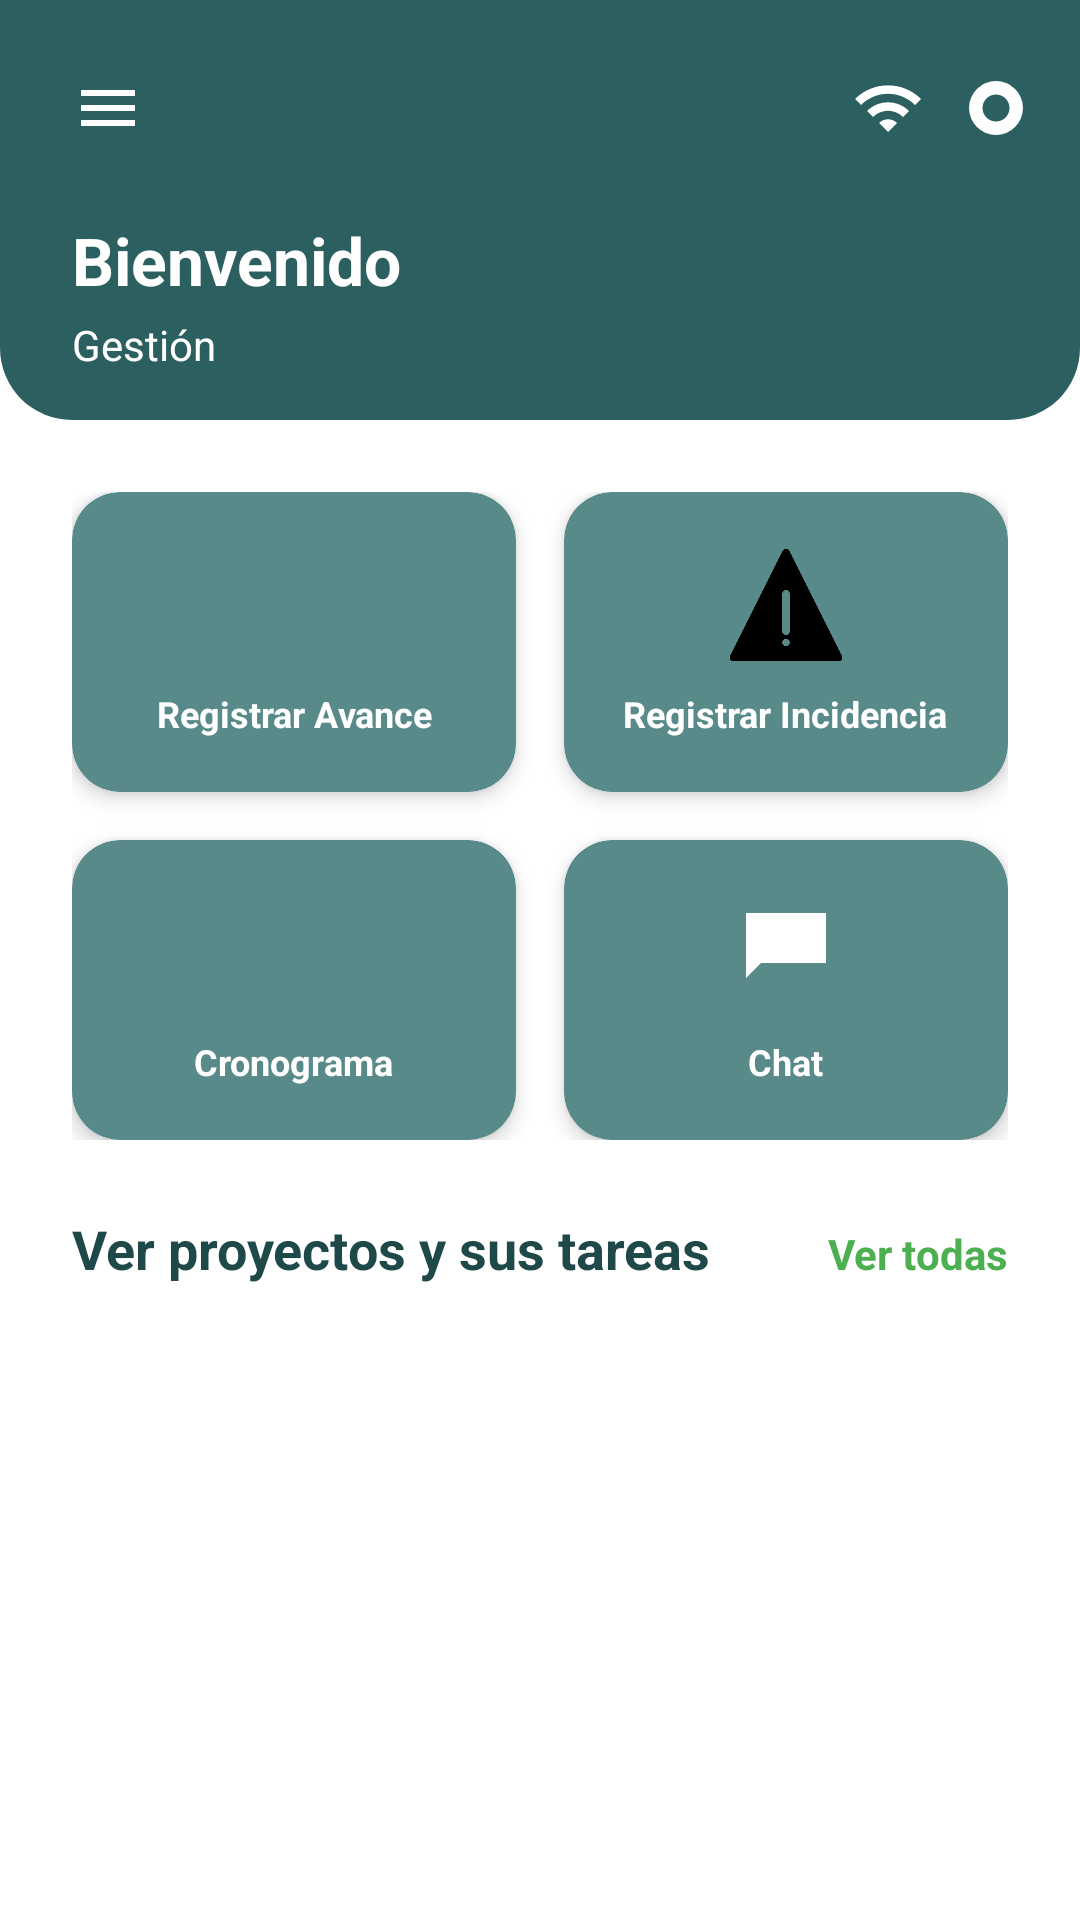

Icons on this 1080×1920 Android screen, each with its box as (x1, y1, x2, y2):
Menu: (81, 90, 135, 126)
Warning: (730, 549, 842, 661)
Wifi: (855, 85, 921, 132)
